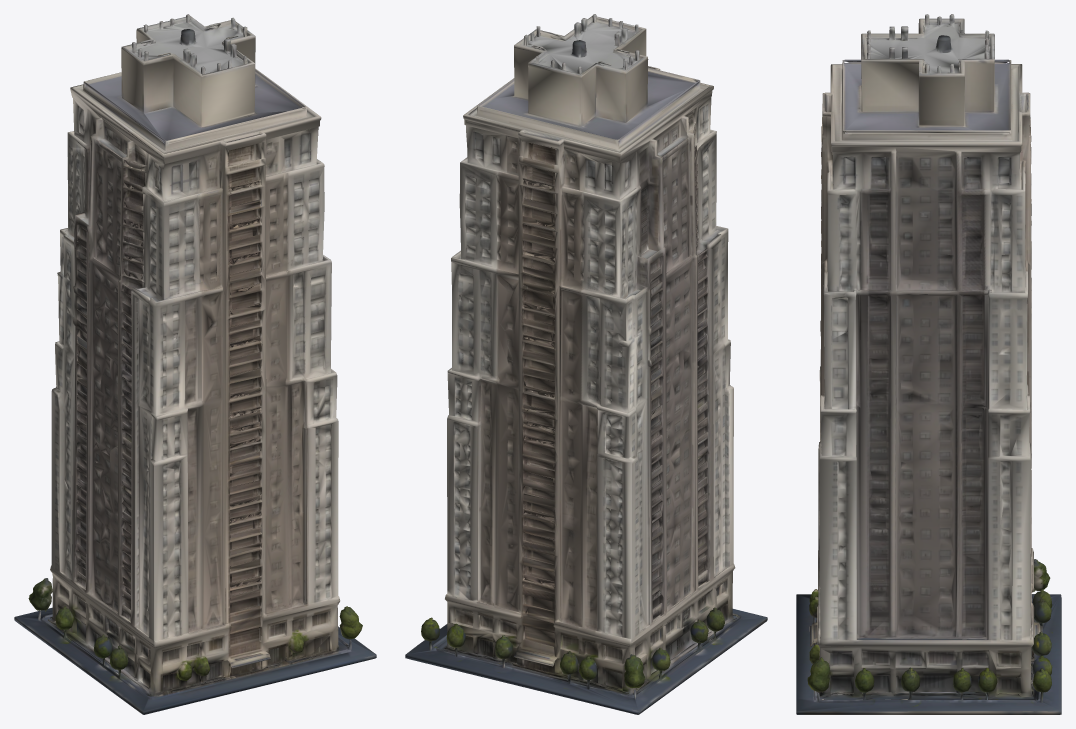
Rendered from asset-model-bldng2-opt-ab2ce6ae-0bde-4e3a-a08c-7c26efa74fa7-DgAdcief.glb.
The picture shows the model from 3 angles, left to right: view 1: azimuth 30°, elevation 25°; view 2: azimuth 150°, elevation 25°; view 3: azimuth 270°, elevation 25°; orthographic projection. The views are drawn at different scales.
Parts seen in each view (by area): view 1: node_0; view 2: node_0; view 3: node_0.
Part boxes in pixels (<box>): node_0: <box>14,14,376,714</box>; node_0: <box>405,14,767,714</box>; node_0: <box>796,14,1061,714</box>.
Size of the model in its own units: 0.4254 by 1.05 by 0.4069.
1 material, 1 textured.
